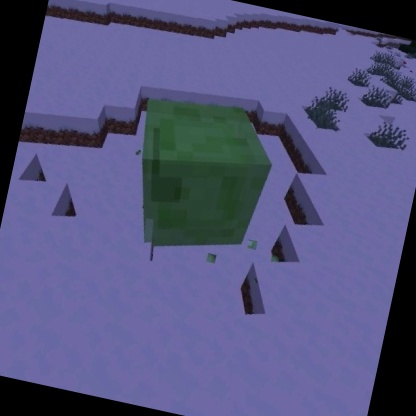slime: (113, 83, 287, 271)
